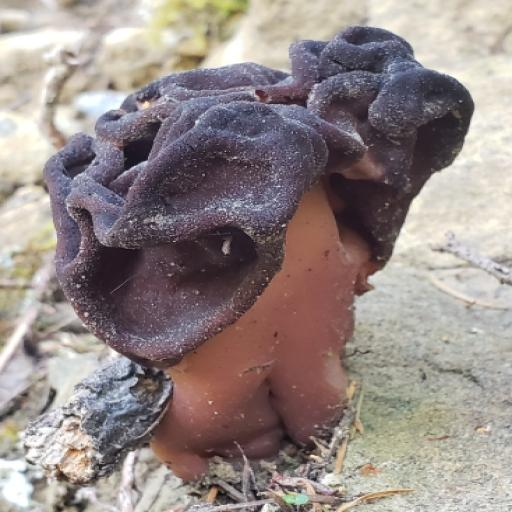False Morel: (9, 0, 512, 500)
